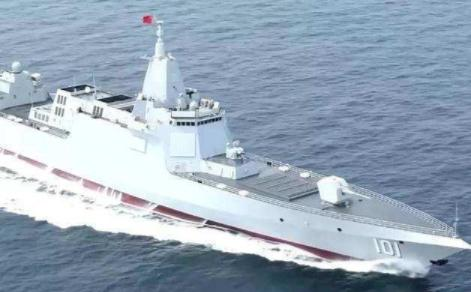warship: (1, 15, 470, 277)
